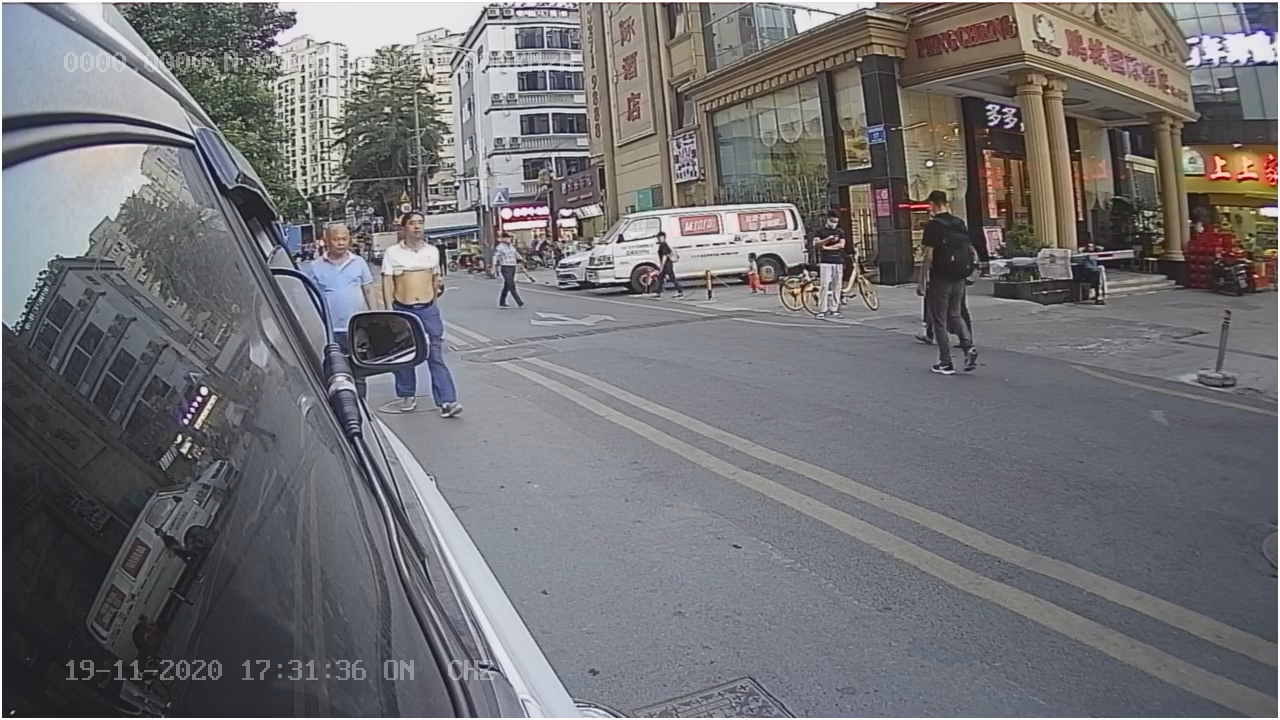person: (375, 203, 449, 305)
